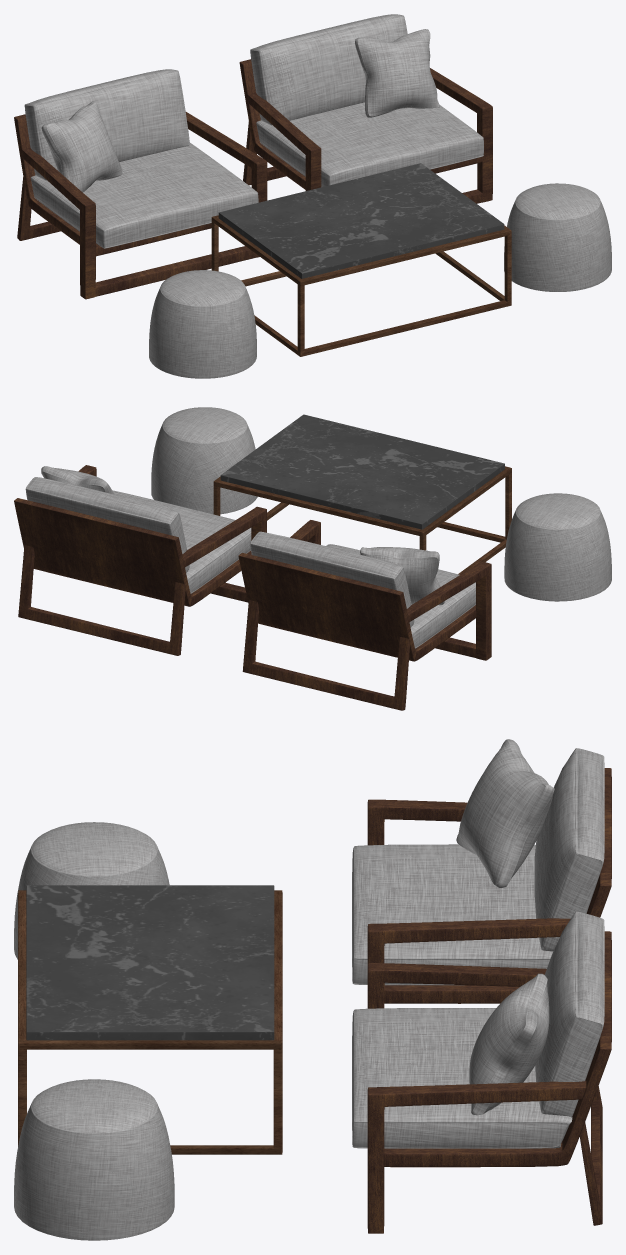
3 views of the same model, one above another, from view 1: azimuth 30°, elevation 25°; view 2: azimuth 150°, elevation 25°; view 3: azimuth 270°, elevation 25° (orthographic). The views are drawn at different scales.
Visible parts, largest first — view 1: Cushion_Bottom (×2), Cushion_Rear (×2), Stand_Marble, Seat_Legs (×2), Beanbag_Copy, Beanbag, Pillow (×2), Stand_Legs; view 2: Seat_Legs (×2), Stand_Marble, Beanbag_Copy, Cushion_Rear (×2), Beanbag, Cushion_Bottom (×2), Stand_Legs, Pillow (×2); view 3: Stand_Marble, Cushion_Bottom (×2), Seat_Legs (×2), Beanbag, Cushion_Rear (×2), Pillow (×2), Beanbag_Copy, Stand_Legs.
Boxes of the visible parts, x1,y1,x2,y2 form: Cushion_Bottom (×2): (30,102,483,248); Cushion_Rear (×2): (24,14,407,180); Stand_Marble: (218,163,504,278); Seat_Legs (×2): (14,59,492,299); Beanbag_Copy: (149,270,256,378); Beanbag: (504,183,611,291); Pillow (×2): (41,29,439,192); Stand_Legs: (211,215,511,356); Seat_Legs (×2): (14,465,491,710); Stand_Marble: (220,414,504,529); Beanbag_Copy: (504,493,611,601); Cushion_Rear (×2): (25,477,414,627); Beanbag: (151,407,257,514); Cushion_Bottom (×2): (112,490,475,648); Stand_Legs: (213,466,511,574); Pillow (×2): (41,466,444,605); Stand_Marble: (26,885,274,1040); Cushion_Bottom (×2): (352,844,572,1148); Seat_Legs (×2): (367,768,611,1233); Beanbag: (14,1079,174,1240); Cushion_Rear (×2): (534,748,604,1117); Pillow (×2): (456,739,554,1115); Beanbag_Copy: (14,822,169,959); Stand_Legs: (18,890,282,1154).
Size of the model in its own units: 20.18 by 6 by 15.69.
